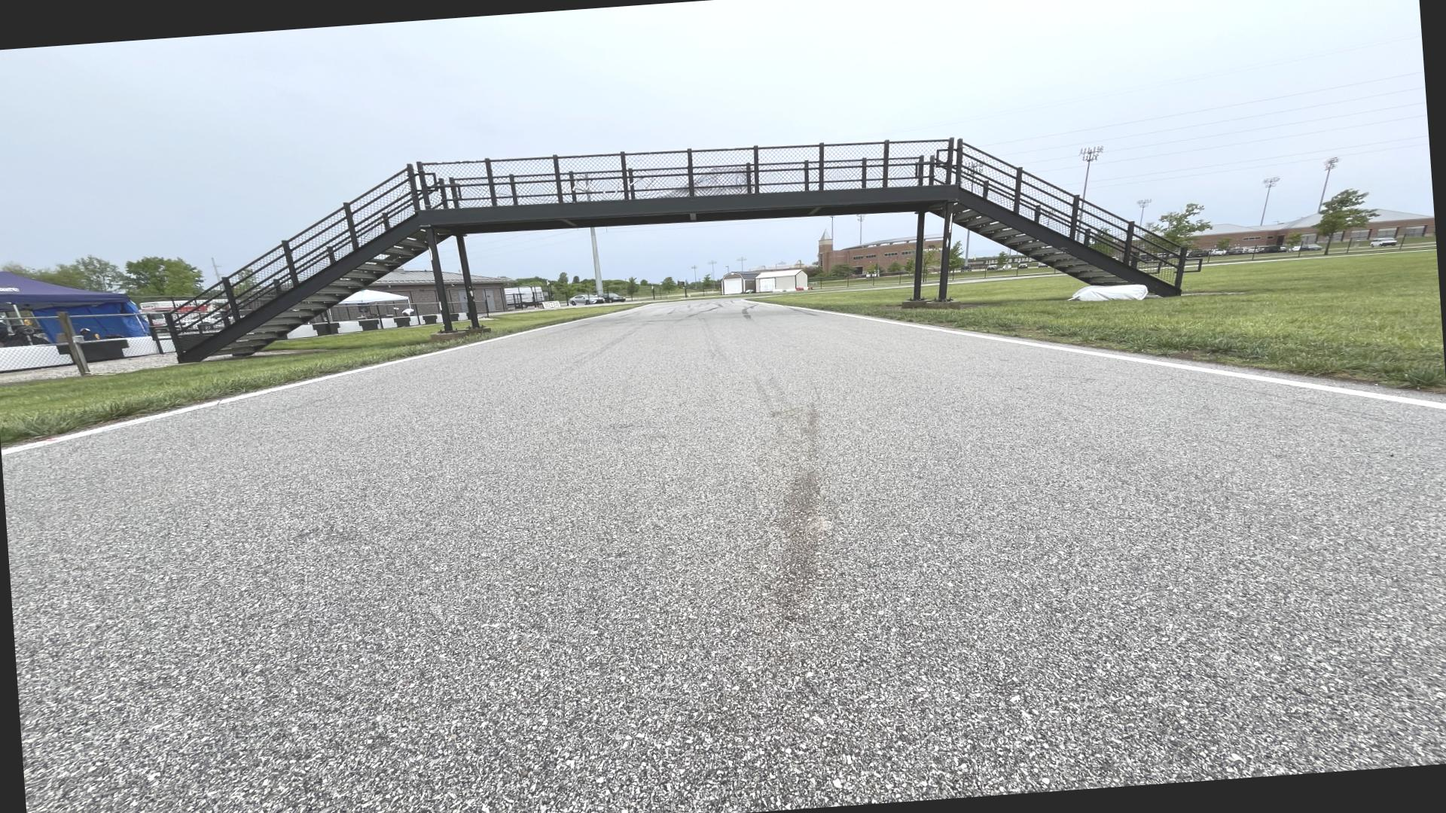white-line: (2, 302, 676, 455), (740, 300, 1445, 411)
